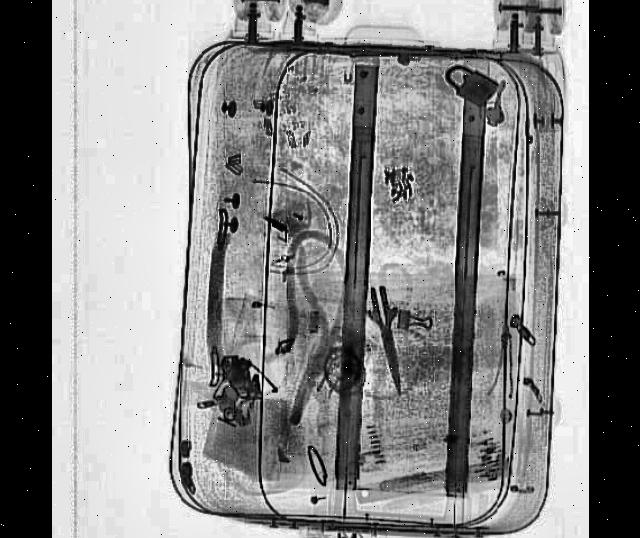Knife: (358, 282, 412, 400)
